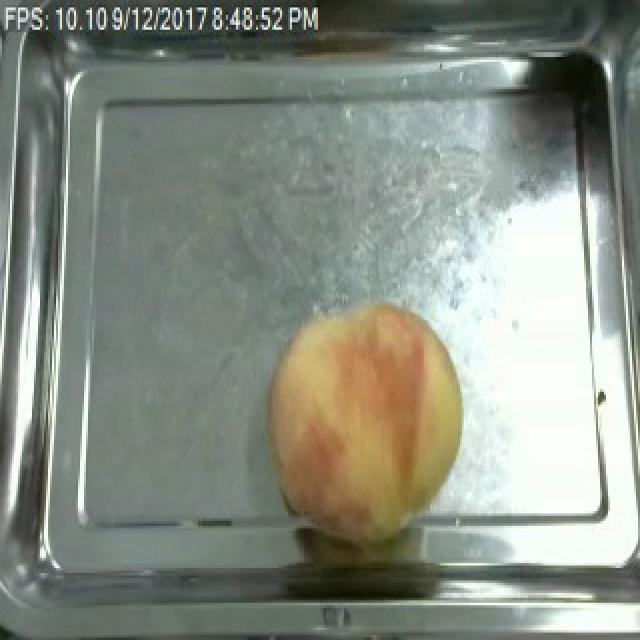Fruit: (256, 295, 476, 548)
